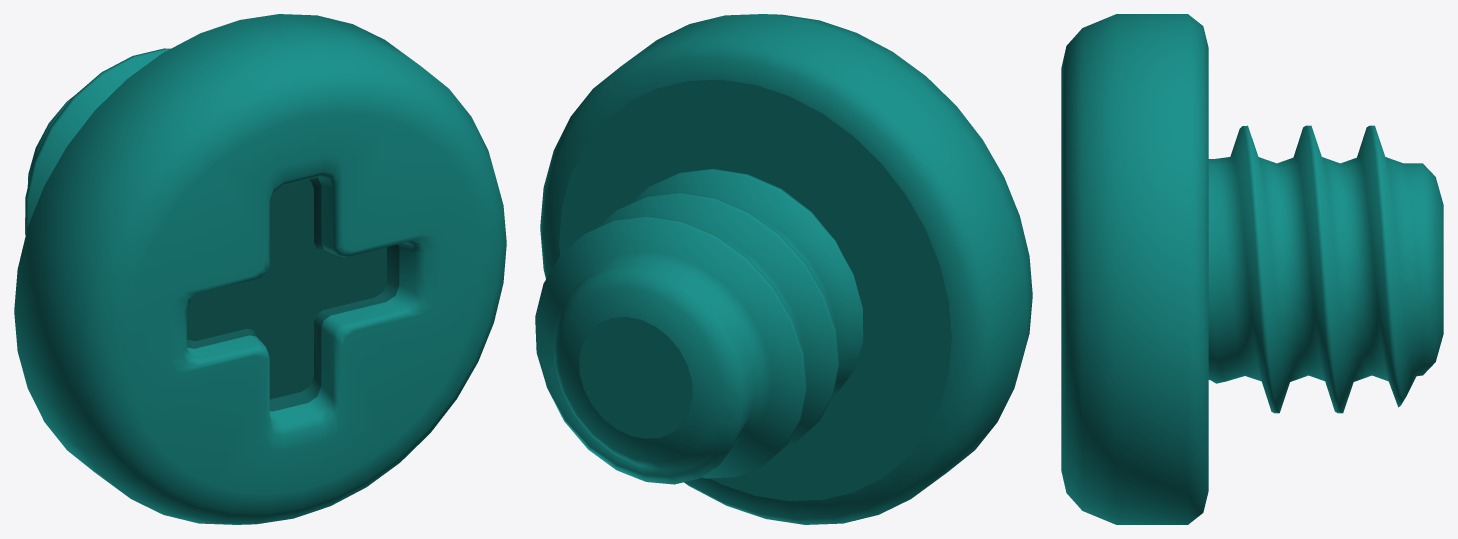
The model's file is PhillipsBolt.glb.
3 views of the same model, side by side, from view 1: azimuth 30°, elevation 25°; view 2: azimuth 150°, elevation 25°; view 3: azimuth 270°, elevation 25° (orthographic).
Parts seen in each view (by area): view 1: PhillipsBolt; view 2: PhillipsBolt; view 3: PhillipsBolt.
Part boxes in pixels (bbox=[...]): PhillipsBolt: bbox=[14, 14, 506, 524]; PhillipsBolt: bbox=[535, 14, 1032, 524]; PhillipsBolt: bbox=[1061, 14, 1443, 524].
Bounding box in the file's own units: 0.8 × 0.8 × 0.5963.
